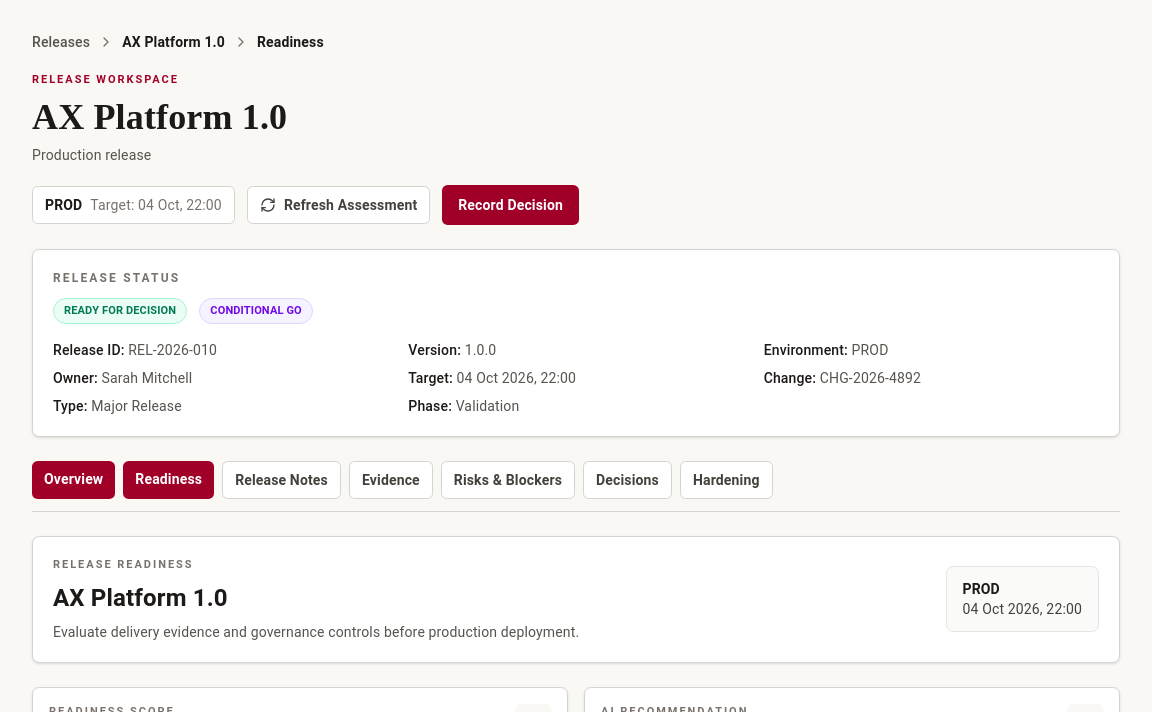
Test case: Release Readiness › requires rationale for a No-Go decision
The width and height of the screenshot is (1152, 712).
Click the button "Record Decision": click(511, 204) [442,184,579,224]
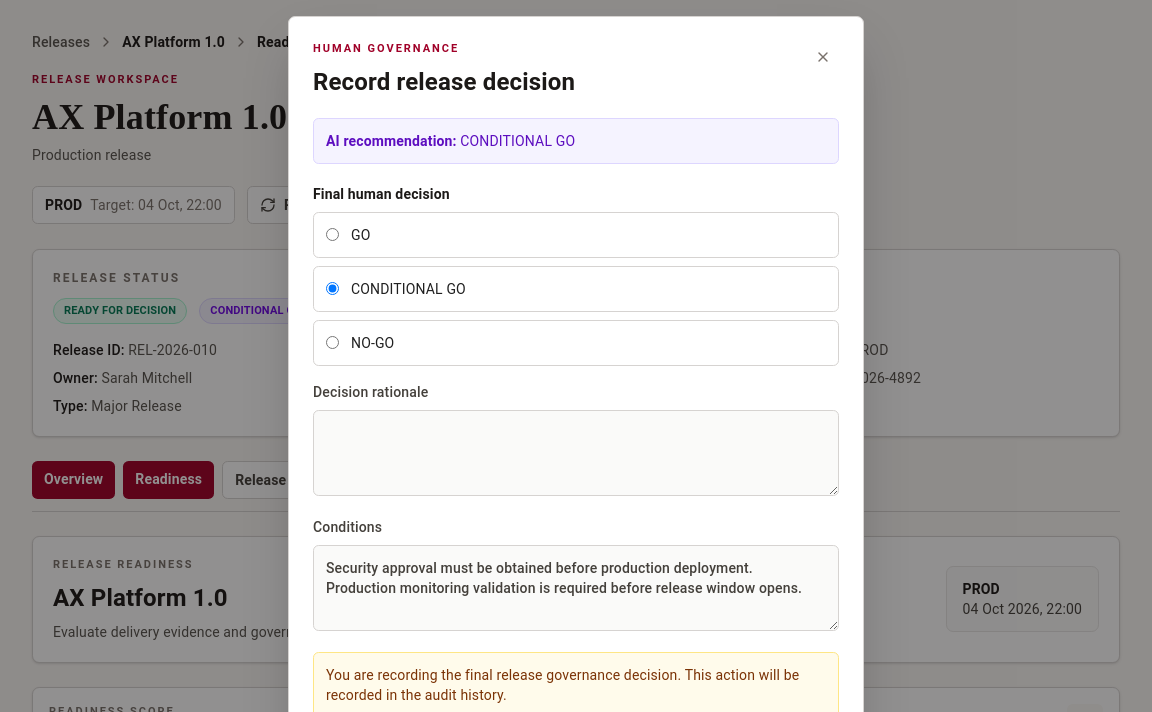
Click the radio button labelled "NO-GO": click(332, 342) [326,336,339,349]
(page scrolled)
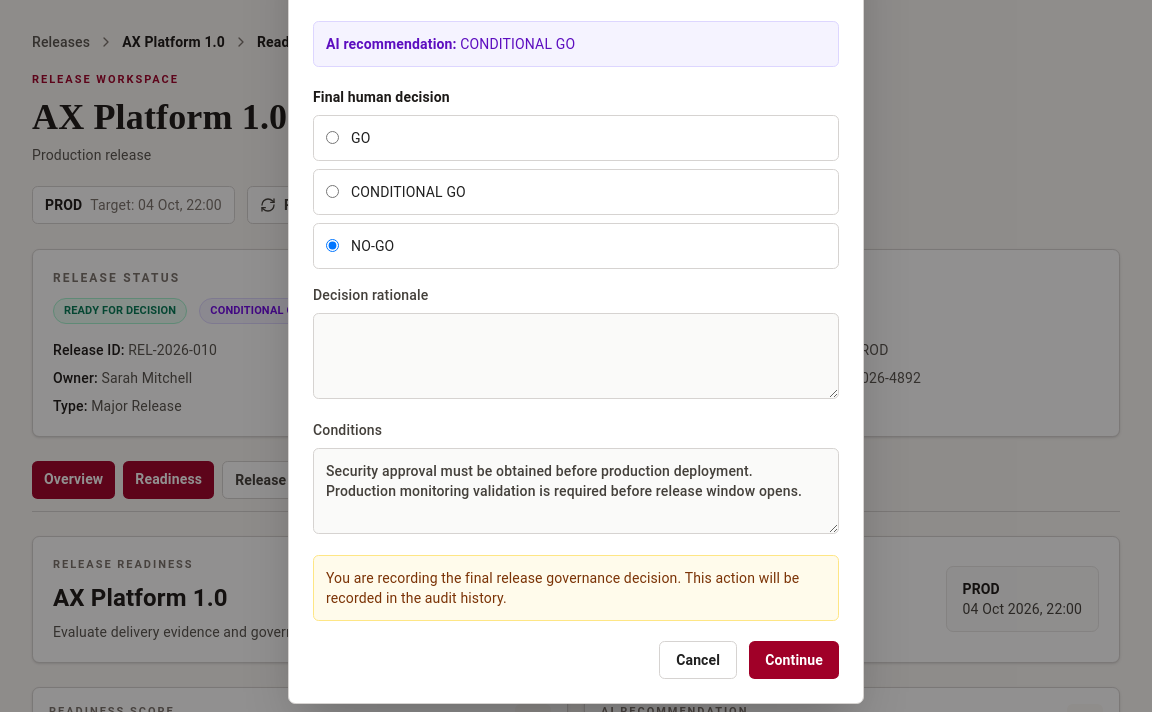
Click the button "Continue": click(794, 660) [749,640,839,678]
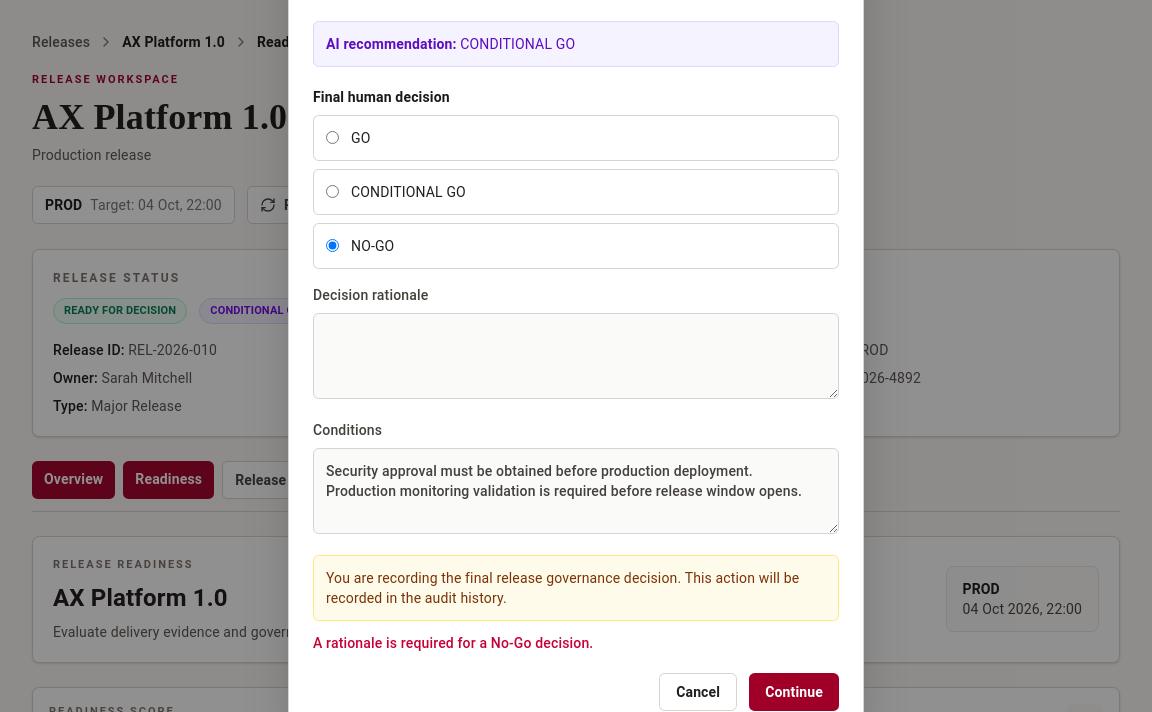
Result: the message shows "rationale is required" at [313,634,593,650]
